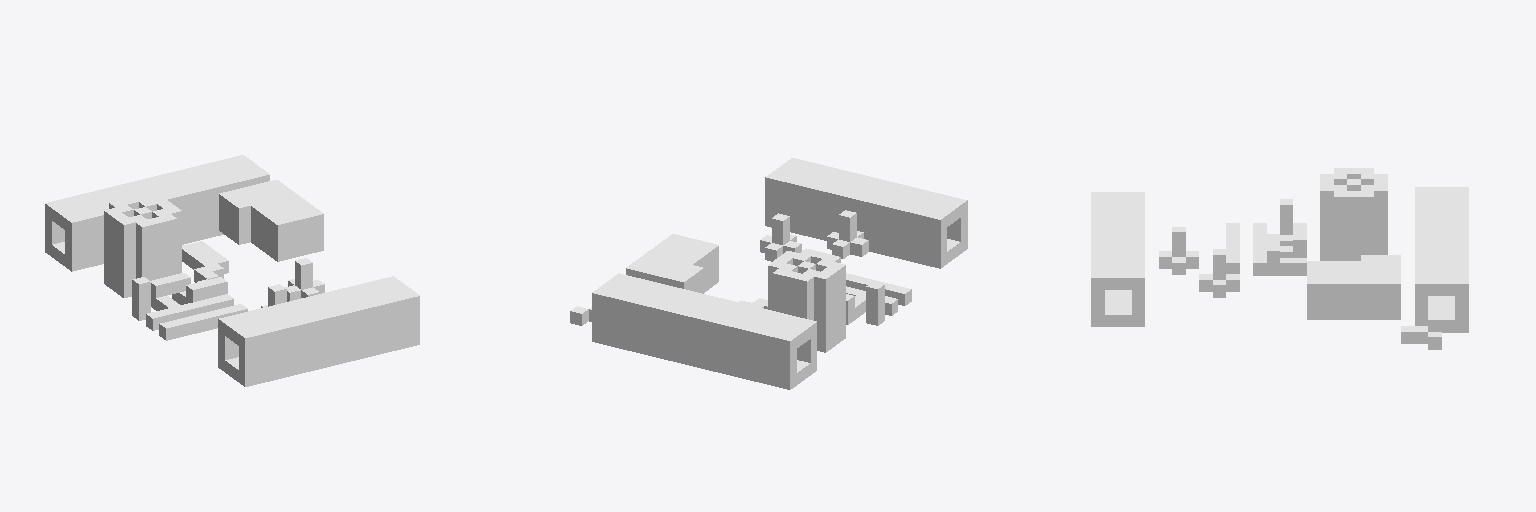
File: disassembledRevolver.obj
3 renders of one model, left to right at view 1: azimuth 30°, elevation 25°; view 2: azimuth 150°, elevation 25°; view 3: azimuth 270°, elevation 25°, orthographic.
Visible parts, largest first — view 1: object 1; view 2: object 1; view 3: object 1.
Part boxes in pixels (x1,y1,x2,y2): object 1: (45,155,419,386); object 1: (570,158,967,389); object 1: (1091,168,1468,349).
Bounding box in the file's own units: 2 × 0.6 × 2.8.